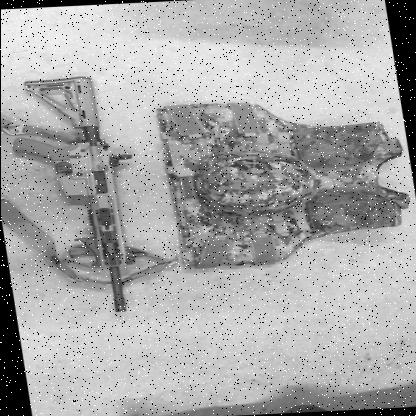rifle: (10, 68, 146, 318)
